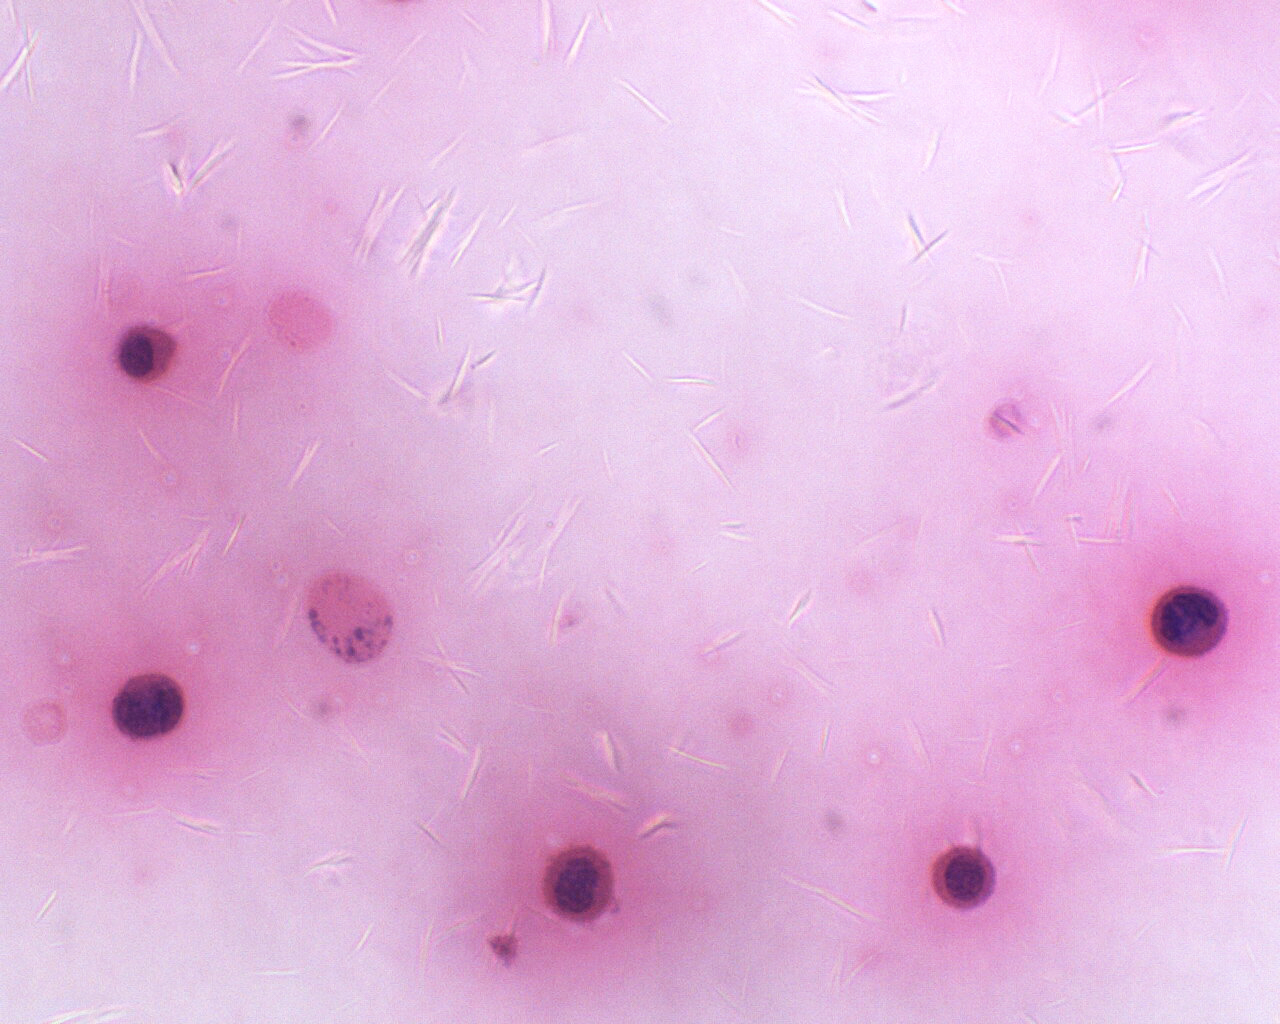ab: (534, 844, 623, 930), (1149, 580, 1232, 667), (107, 669, 196, 748), (925, 837, 1002, 916)
meso: (113, 322, 185, 387)
